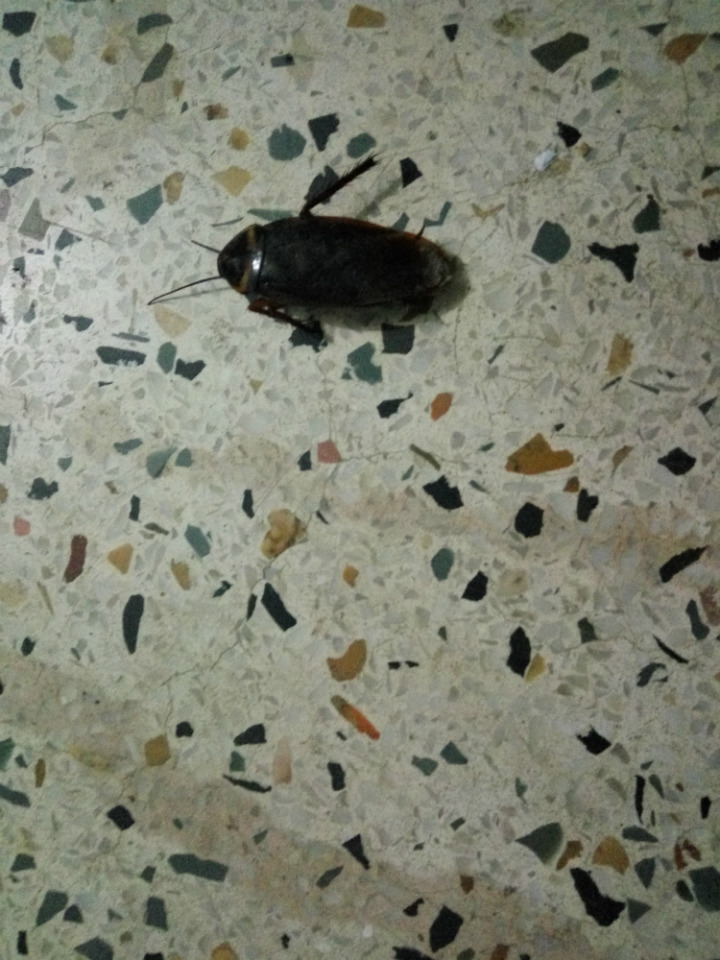cockroach: (116, 143, 548, 415)
